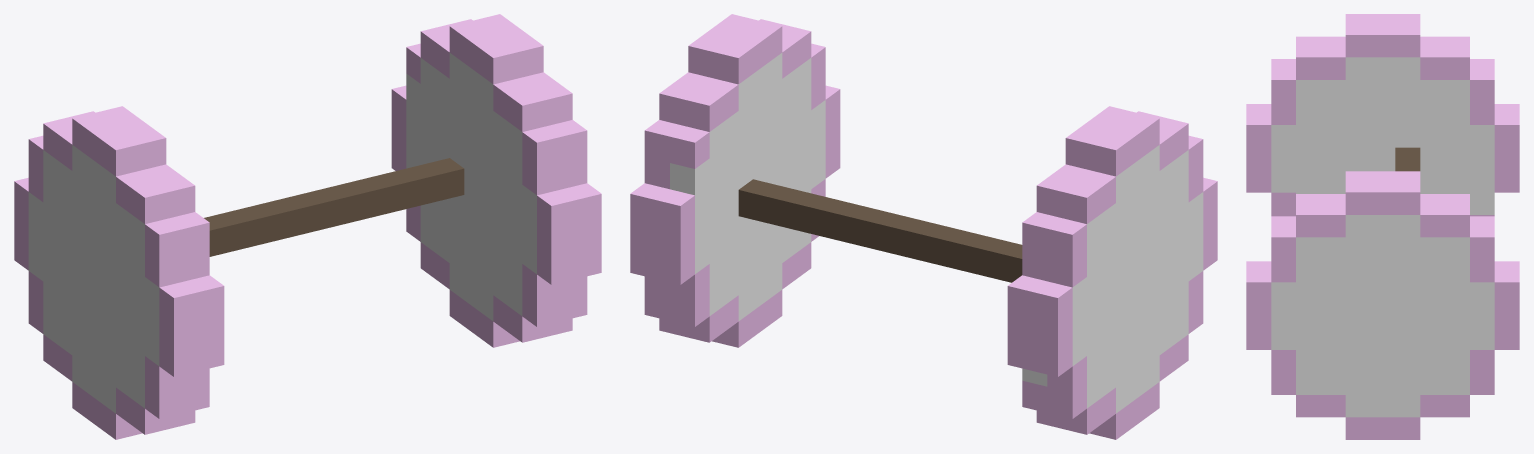
File: Canon_Wheel2.obj
The picture shows the model from 3 angles, left to right: view 1: azimuth 30°, elevation 25°; view 2: azimuth 150°, elevation 25°; view 3: azimuth 270°, elevation 25°; orthographic projection. The views are drawn at different scales.
Size of the model in its own units: 1.7 by 1.1 by 1.1.
Materials: 1 (1 with a texture image).
